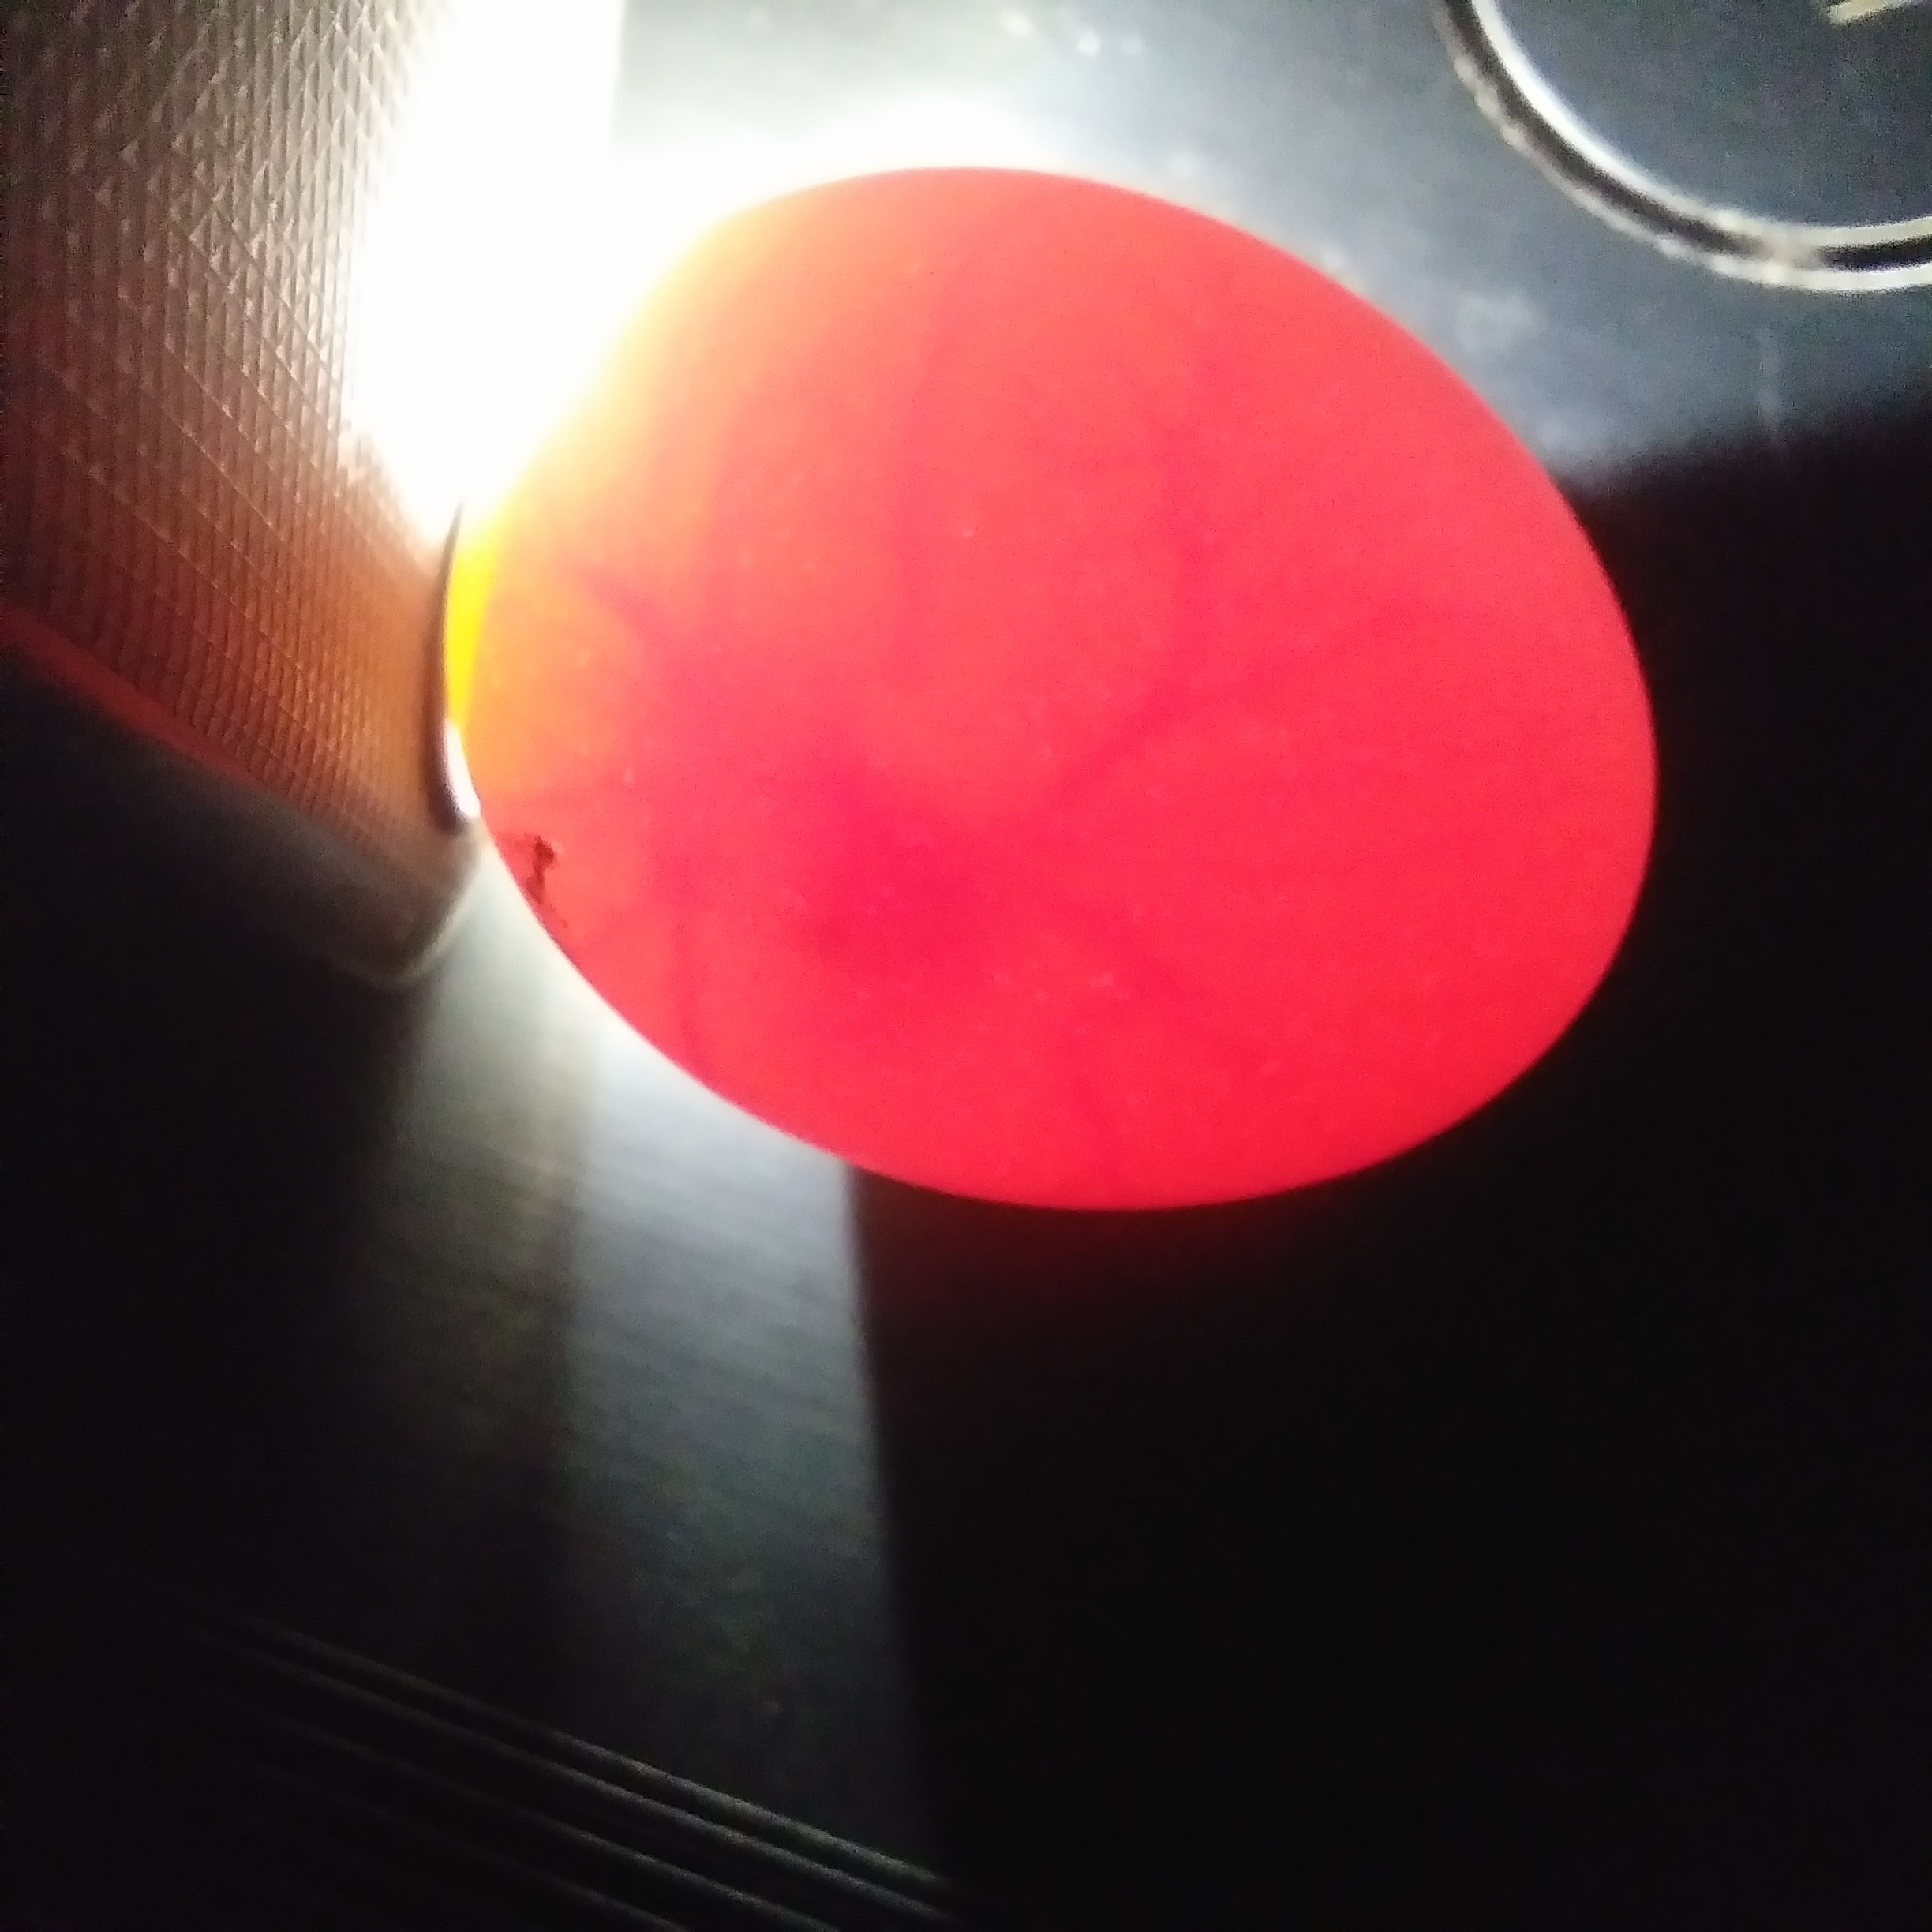bloodcell: (556, 418, 1258, 725)
embryo: (732, 734, 987, 1003)
